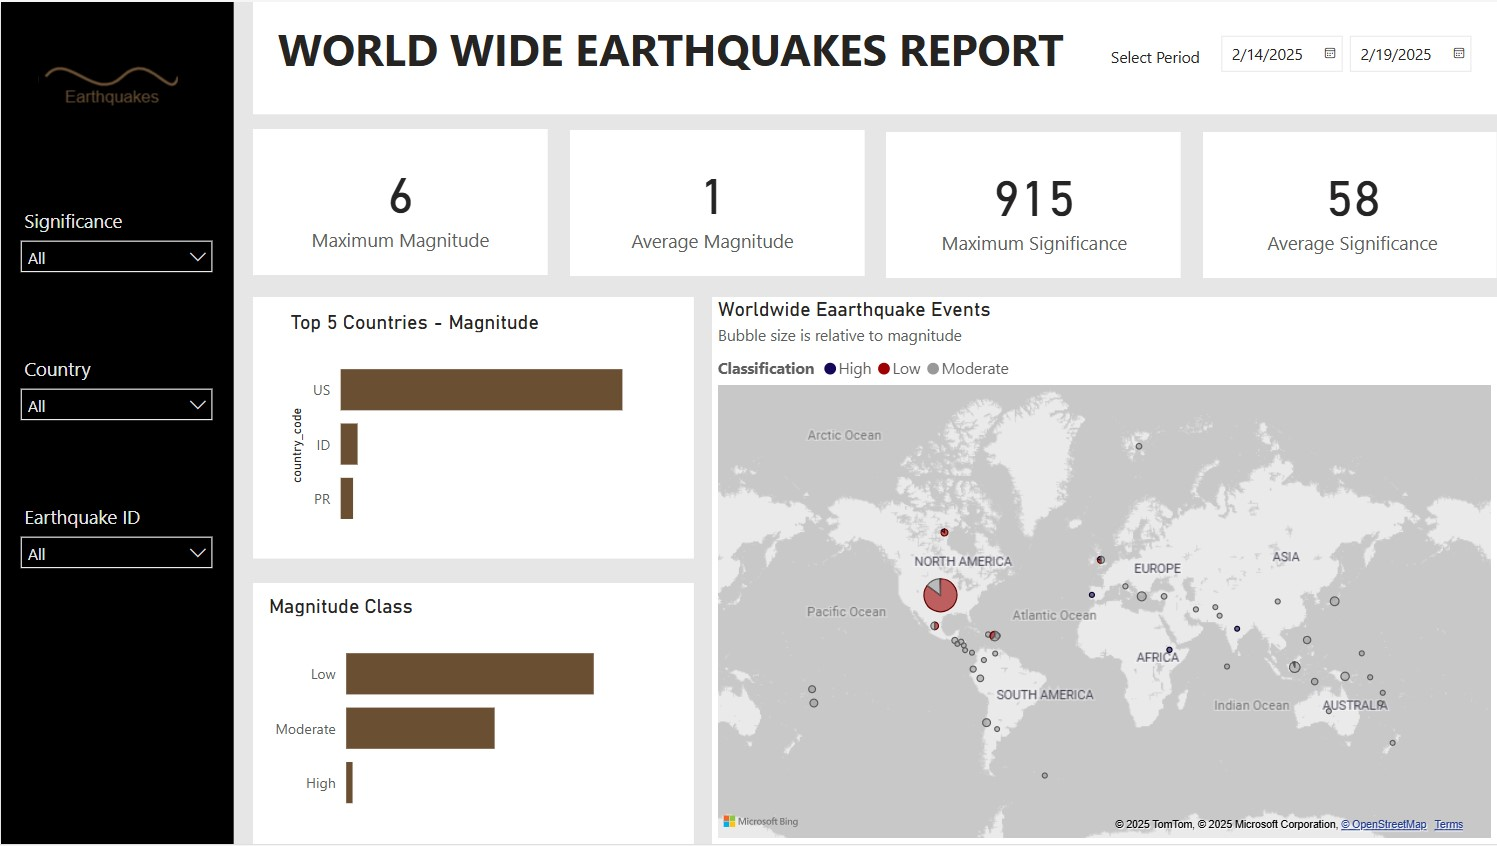

The page's visual inventory and layout, read from the dashboard file:
{"tool":"powerbi","page":{"name":"Page 1","canvas":[1280,720],"ordinal":0},"visuals":[{"type":"shape","box":[215.4,0,1064.8,96.1],"z":0},{"type":"textbox","box":[231.9,9.6,698.5,78.2],"z":1000},{"type":"shape","box":[0,0,199,720.4],"z":2000},{"type":"slicer","fields":{"Values":["earthquake_events_gold.time"]},"box":[1030.5,19.2,249.7,57.6],"z":3000},{"type":"textbox","box":[944.1,32.9,86.4,28.8],"z":4000},{"type":"shape","box":[607.9,252.5,672.4,467.9],"z":5000},{"type":"shape","box":[215.4,252.5,377.4,223.7],"z":6000},{"type":"shape","box":[215.4,108.4,252.5,124.9],"z":7000},{"type":"shape","box":[215.4,496.7,377.4,223.7],"z":8000},{"type":"shape","box":[486.2,109.8,252.5,124.9],"z":9000},{"type":"shape","box":[757,111.1,252.5,124.9],"z":10000},{"type":"shape","box":[1027.5,111.1,252.5,124.9],"z":11000},{"type":"map","title":"Worldwide Eaarthquake Events","fields":{"Category":["earthquake_events_gold.country_code"],"Size":["Sum(earthquake_events_gold.mag)"],"Series":["earthquake_events_gold.sig_class"]},"box":[607.9,252.5,672.4,467.9],"z":12000},{"type":"card","fields":{"Values":["Max(earthquake_events_gold.mag)"]},"box":[231.9,115.3,219.6,112.5],"z":13000},{"type":"card","fields":{"Values":["Avg(earthquake_events_gold.mag)"]},"box":[498.1,116.6,219.6,112.5],"z":14000},{"type":"card","fields":{"Values":["Max(earthquake_events_gold.sig)"]},"box":[773.9,118,219.6,112.5],"z":15000},{"type":"card","fields":{"Values":["Avg(earthquake_events_gold.sig)"]},"box":[1045.6,118,219.6,112.5],"z":16000},{"type":"clusteredBarChart","title":"Magnitude Class","fields":{"Y":["Sum(earthquake_events_gold.mag)"],"Category":["earthquake_events_gold.sig_class"]},"box":[229.2,506.3,352.7,204.5],"z":16001},{"type":"clusteredBarChart","title":"Top 5 Countries - Magnitude","fields":{"Y":["Sum(earthquake_events_gold.mag)"],"Category":["earthquake_events_gold.country_code"]},"box":[227.6,263.6,355,204.3],"z":16002},{"type":"actionButton","box":[28.2,0,162.4,127.4],"z":16003},{"type":"slicer","fields":{"Values":["earthquake_events_gold.sig_class"]},"box":[6.8,171.2,183.8,92.4],"z":16004},{"type":"slicer","fields":{"Values":["earthquake_events_gold.country_code"]},"box":[6.8,297.6,183.8,92.4],"z":16005},{"type":"slicer","fields":{"Values":["earthquake_events_gold.id"]},"box":[6.8,424.1,183.8,82.7],"z":16006}]}

Visuals, with their boxes on the page's 1280x720 design canvas (x1, y1, x2, y2). These are canvas units, not pixel positions in the 1497x846 screenshot, which may show the page scaled, cropped or inside an application window:
shape: 215/0/1280/96
textbox: 232/10/930/88
shape: 0/0/199/720
slicer - earthquake_events_gold.time: 1030/19/1280/77
textbox: 944/33/1030/62
shape: 608/252/1280/720
shape: 215/252/593/476
shape: 215/108/468/233
shape: 215/497/593/720
shape: 486/110/739/235
shape: 757/111/1010/236
shape: 1028/111/1280/236
"Worldwide Eaarthquake Events" map: 608/252/1280/720
card - Max(earthquake_events_gold.mag): 232/115/452/228
card - Avg(earthquake_events_gold.mag): 498/117/718/229
card - Max(earthquake_events_gold.sig): 774/118/994/230
card - Avg(earthquake_events_gold.sig): 1046/118/1265/230
"Magnitude Class" clusteredBarChart: 229/506/582/711
"Top 5 Countries - Magnitude" clusteredBarChart: 228/264/583/468
actionButton: 28/0/191/127
slicer - earthquake_events_gold.sig_class: 7/171/191/264
slicer - earthquake_events_gold.country_code: 7/298/191/390
slicer - earthquake_events_gold.id: 7/424/191/507
